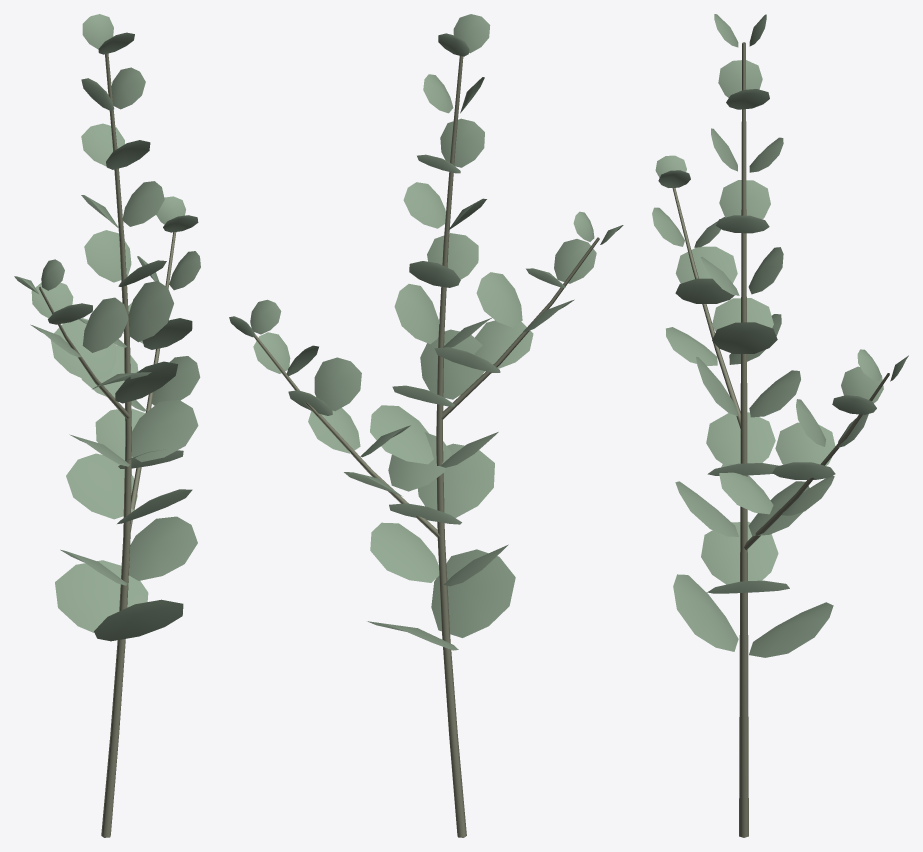
File: eucalyptus.glb
3 views of the same model, side by side, from view 1: azimuth 30°, elevation 25°; view 2: azimuth 150°, elevation 25°; view 3: azimuth 270°, elevation 25° (orthographic).
Visible parts, largest first — view 1: eucalyptus; view 2: eucalyptus; view 3: eucalyptus.
Part boxes in pixels (x1,y1,x2,y2): eucalyptus: [14, 14, 200, 837]; eucalyptus: [229, 14, 623, 837]; eucalyptus: [652, 14, 908, 837].
Size of the model in its own units: 0.1487 by 0.4134 by 0.1175.
